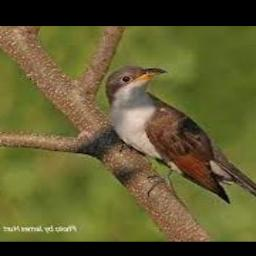Cuckoo: (105, 67, 256, 222)
